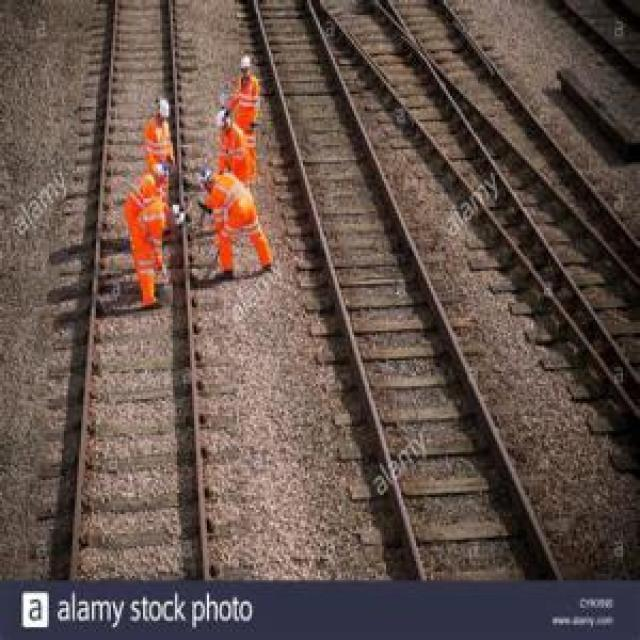rail: (241, 1, 581, 585), (323, 1, 640, 476), (53, 2, 232, 589)
